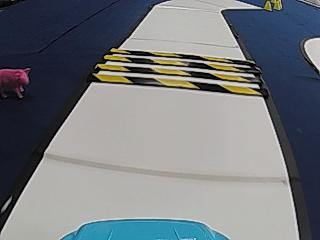bump: (87, 46, 271, 95)
